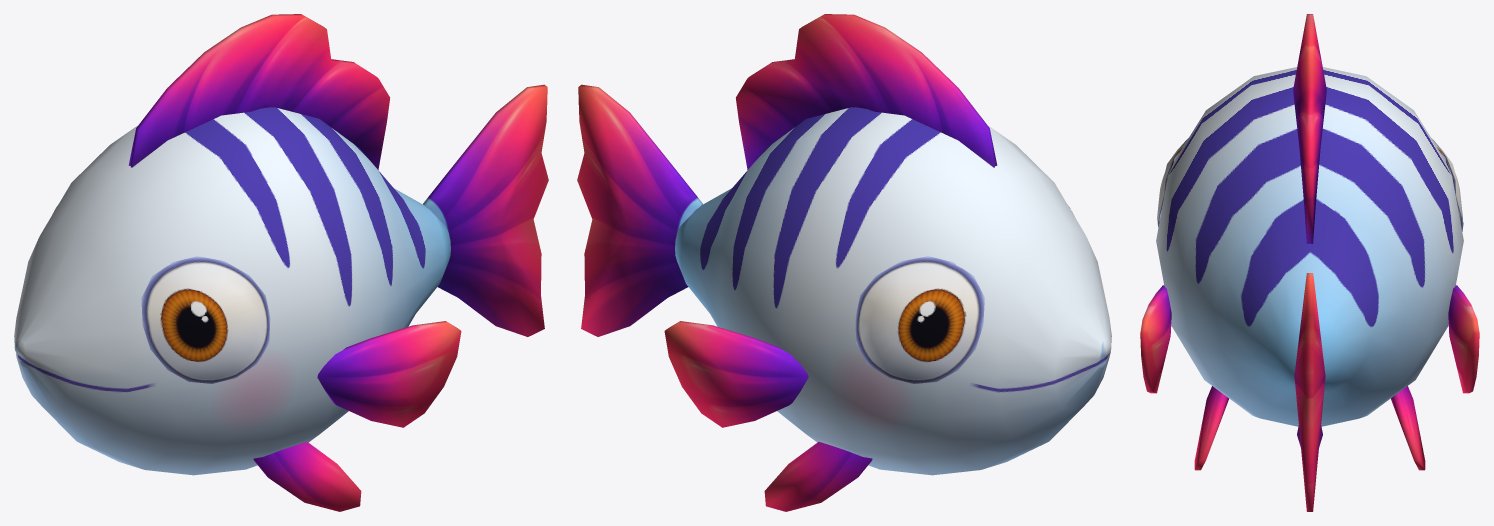
3 renders of one model, left to right at view 1: azimuth 30°, elevation 25°; view 2: azimuth 150°, elevation 25°; view 3: azimuth 270°, elevation 25°, orthographic. The views are drawn at different scales.
Visible parts, largest first — view 1: BlueFish; view 2: BlueFish; view 3: BlueFish.
Part boxes in pixels (box(x1,y1,x2,y2)): BlueFish: box(14, 14, 548, 511); BlueFish: box(577, 14, 1111, 511); BlueFish: box(1140, 14, 1479, 511).
Bounding box in the file's own units: 187 × 153 × 109.
